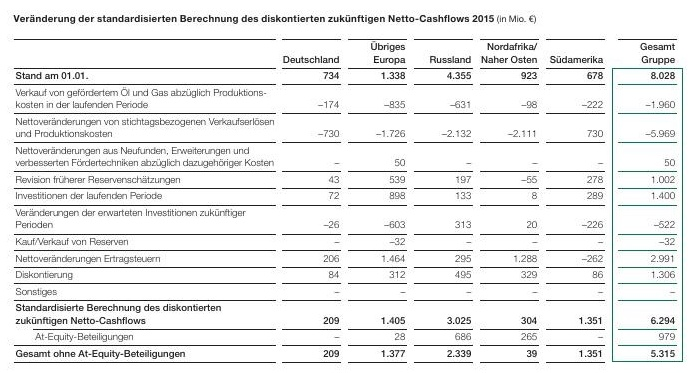table: (0, 0, 692, 373)
